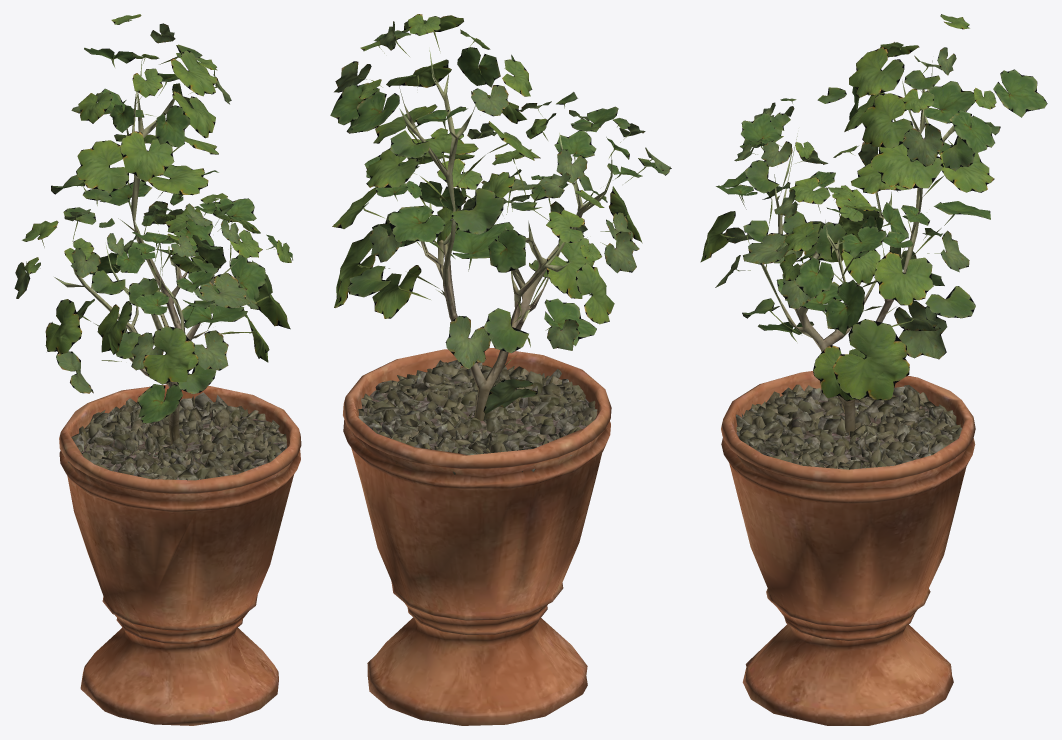
Rendered from ph_plant.glb.
3 renders of one model, left to right at view 1: azimuth 30°, elevation 25°; view 2: azimuth 150°, elevation 25°; view 3: azimuth 270°, elevation 25°, orthographic. The views are drawn at different scales.
Parts seen in each view (by area): view 1: potted_plant_01_pot, potted_plant_01_leaves, potted_plant_01_pebbles, potted_plant_01_stem; view 2: potted_plant_01_pot, potted_plant_01_leaves, potted_plant_01_pebbles, potted_plant_01_stem; view 3: potted_plant_01_pot, potted_plant_01_leaves, potted_plant_01_pebbles, potted_plant_01_stem.
Part boxes in pixels (x1=…): potted_plant_01_pot: x1=59, y1=384, x2=301, y2=725; potted_plant_01_leaves: x1=14, y1=14, x2=292, y2=423; potted_plant_01_pebbles: x1=68, y1=392, x2=286, y2=480; potted_plant_01_stem: x1=54, y1=57, x2=241, y2=444; potted_plant_01_pot: x1=343, y1=348, x2=611, y2=725; potted_plant_01_leaves: x1=330, y1=14, x2=671, y2=414; potted_plant_01_pebbles: x1=358, y1=360, x2=597, y2=474; potted_plant_01_stem: x1=399, y1=50, x2=612, y2=420; potted_plant_01_pot: x1=721, y1=371, x2=975, y2=725; potted_plant_01_leaves: x1=700, y1=14, x2=1047, y2=401; potted_plant_01_pebbles: x1=736, y1=384, x2=961, y2=469; potted_plant_01_stem: x1=761, y1=60, x2=966, y2=434.
Bounding box in the file's own units: 0.5866 × 1.34 × 0.6336.
Materials: 2 (2 with a texture image).
